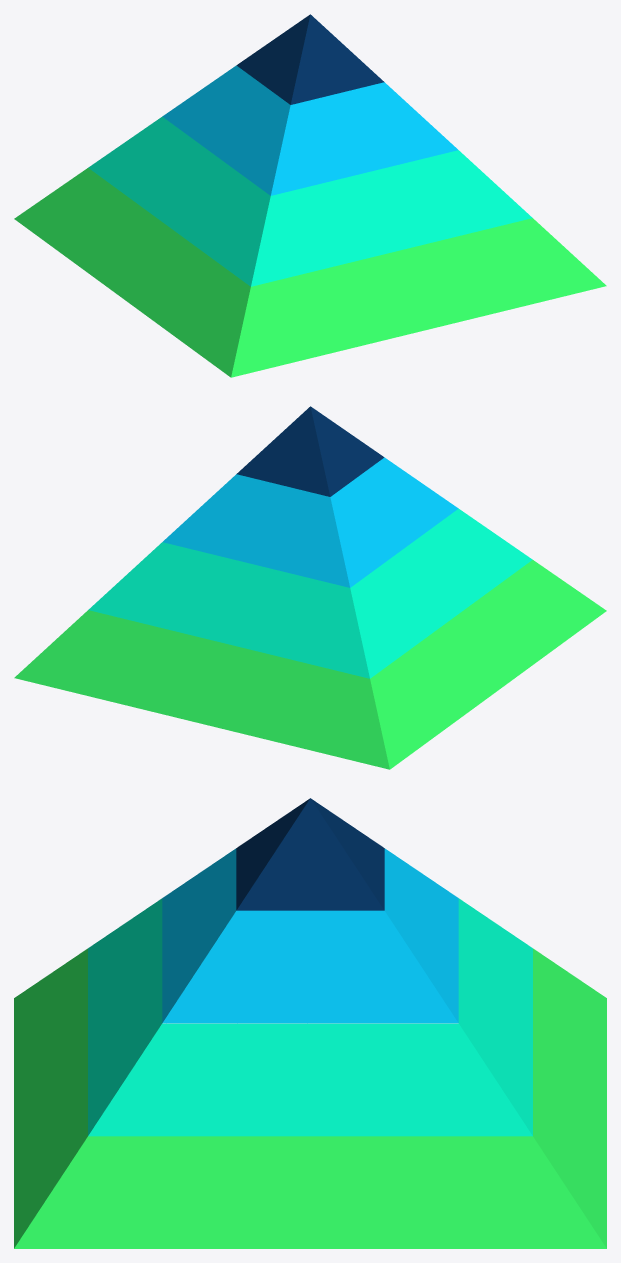
File: pyrimdd.fbx
3 renders of one model, top to bottom at view 1: azimuth 30°, elevation 25°; view 2: azimuth 150°, elevation 25°; view 3: azimuth 270°, elevation 25°, orthographic. The views are drawn at different scales.
Parts seen in each view (by area): view 1: Layer0_001; view 2: Layer0_001; view 3: Layer0_001.
Part boxes in pixels (box(x1,y1,x2,y2)): Layer0_001: box(14, 14, 606, 377); Layer0_001: box(14, 406, 606, 769); Layer0_001: box(14, 798, 606, 1248).
Size of the model in its own units: 1800 by 1090 by 1800.
